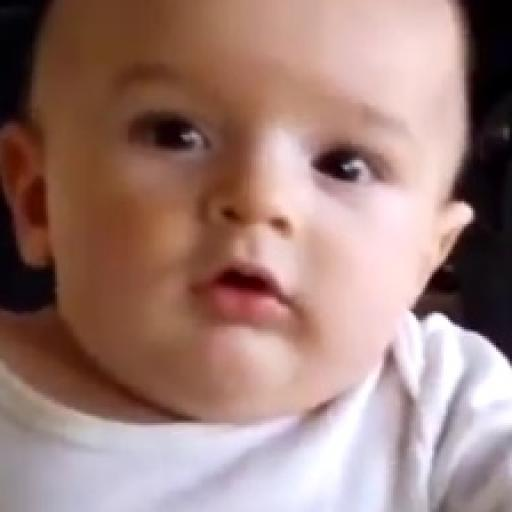Autism: (52, 0, 445, 416)
